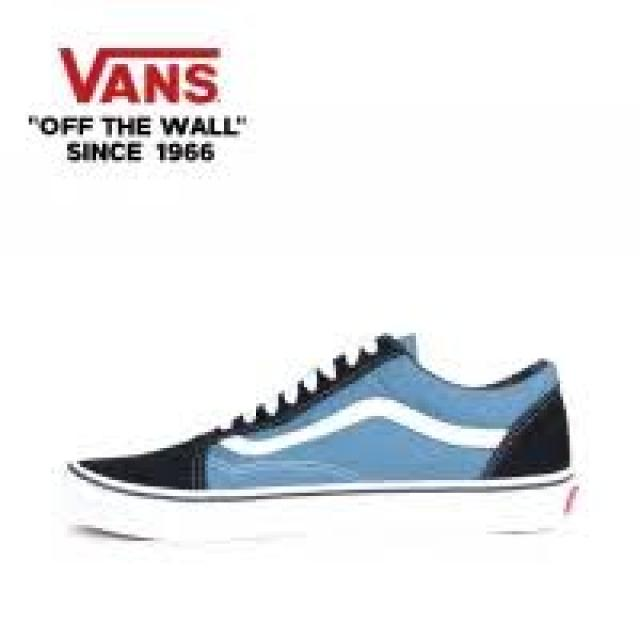shoe: (56, 323, 592, 535)
